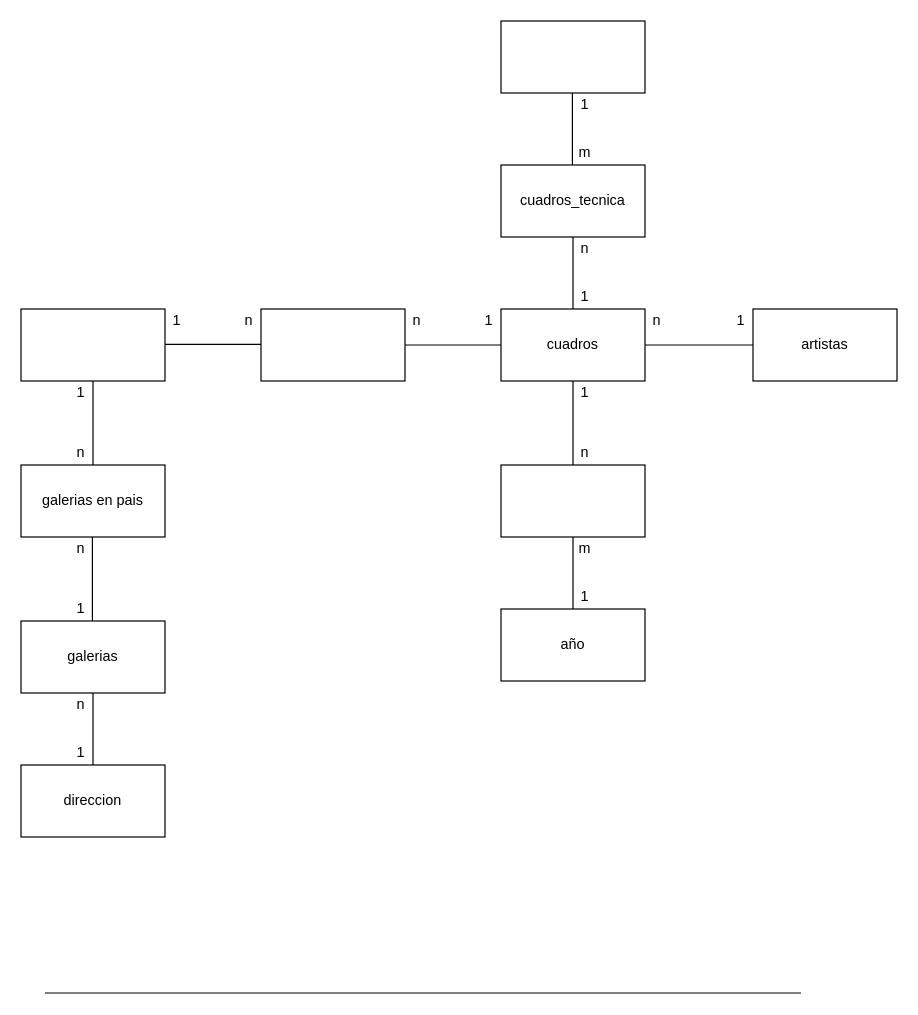
This 918x1015 diagram has some shape labels left out. The shapes that lost their labels are listed below. From the top down, each one's centre as x and y in pixels, then its label:
At point 572,56: "tecnica".
At point 92,344: "paises de exposicion".
At point 332,344: "exposicion_cuadros".
At point 572,500: "fecha_exposicion _cuadro".
